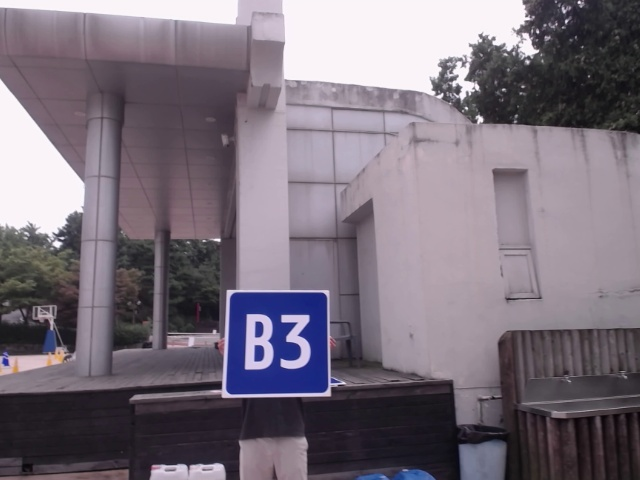delivery_b3: (226, 291, 330, 392)
